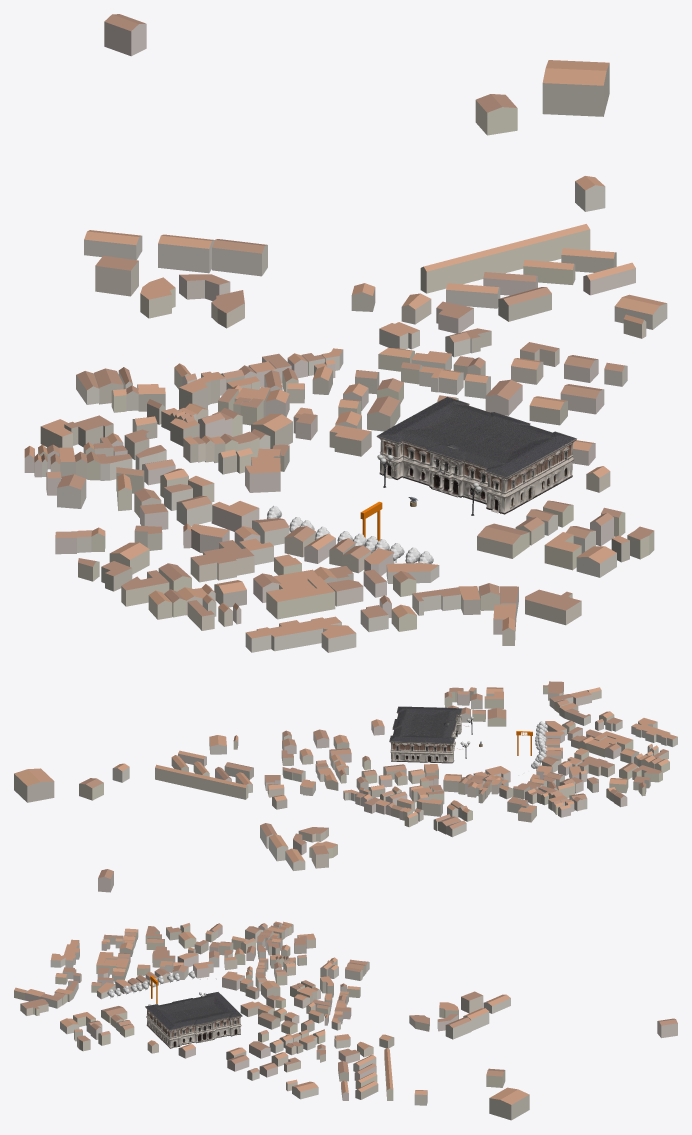
File: maglianoC.glb
The picture shows the model from 3 angles, top to bottom: view 1: azimuth 30°, elevation 25°; view 2: azimuth 150°, elevation 25°; view 3: azimuth 270°, elevation 25°; orthographic projection. The views are drawn at different scales.
Visible parts, largest first — view 1: Municipio, Casa_058, Casa_061, Casa_001, Casa_066, Casa_068, Casa_110, Casa_109, Casa_111, Casa_060, Casa_113, Casa_112 (+30 smaller); view 2: Municipio, Casa_058, Casa_061, Casa_001, Casa_068, Casa_060, Casa_154, Casa_110, Casa_196, Casa_111, Casa_024, Casa_202 (+6 smaller); view 3: Municipio, Casa_061, Casa_001, Casa_109, Casa_111, Casa_058, Casa_110, Casa_037, Casa_113, Casa_112, Casa_060, Casa_068 (+2 smaller).
Part boxes in pixels (x1,y1,x2,y2): Municipio: [376, 397, 576, 515]; Casa_058: [420, 224, 590, 293]; Casa_061: [542, 60, 609, 116]; Casa_001: [245, 616, 356, 652]; Casa_066: [266, 576, 335, 619]; Casa_068: [190, 540, 254, 582]; Casa_110: [158, 234, 214, 273]; Casa_109: [212, 239, 267, 276]; Casa_111: [95, 255, 138, 296]; Casa_060: [475, 94, 517, 135]; Casa_113: [104, 14, 146, 56]; Casa_112: [84, 230, 142, 260]; Municipio: [389, 706, 473, 763]; Casa_058: [155, 764, 248, 799]; Casa_061: [14, 768, 54, 802]; Casa_001: [631, 718, 677, 747]; Casa_068: [577, 756, 614, 777]; Casa_060: [79, 778, 103, 800]; Casa_154: [416, 798, 442, 816]; Casa_110: [269, 834, 288, 861]; Casa_196: [298, 827, 328, 842]; Casa_111: [311, 845, 328, 868]; Casa_024: [487, 708, 506, 726]; Casa_202: [632, 765, 662, 782]; Municipio: [145, 992, 242, 1048]; Casa_061: [489, 1087, 529, 1120]; Casa_001: [50, 939, 79, 967]; Casa_109: [445, 1017, 471, 1039]; Casa_111: [461, 991, 483, 1013]; Casa_058: [384, 1048, 393, 1100]; Casa_110: [463, 1008, 489, 1030]; Casa_037: [292, 1081, 318, 1099]; Casa_113: [657, 1018, 677, 1038]; Casa_112: [483, 994, 510, 1013]; Casa_060: [486, 1068, 505, 1087]; Casa_068: [152, 946, 175, 967].
Bounding box in the file's own units: 554 × 57.31 × 746.
44 materials, 1 textured.
